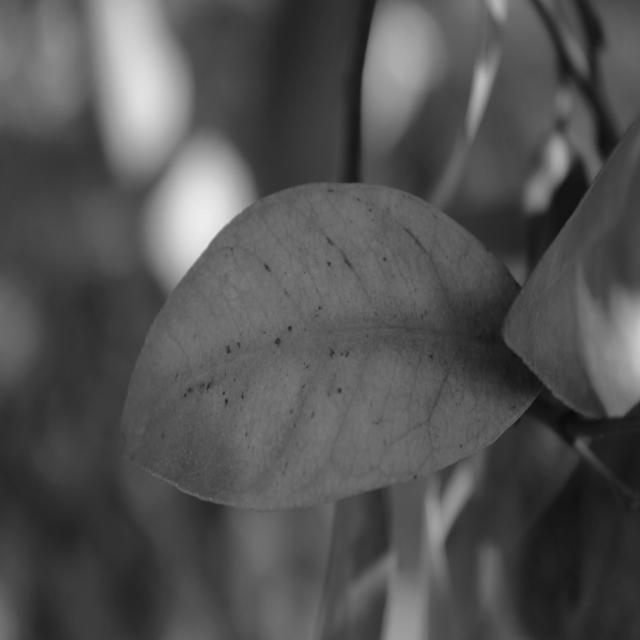blackspot: (124, 183, 503, 516)
